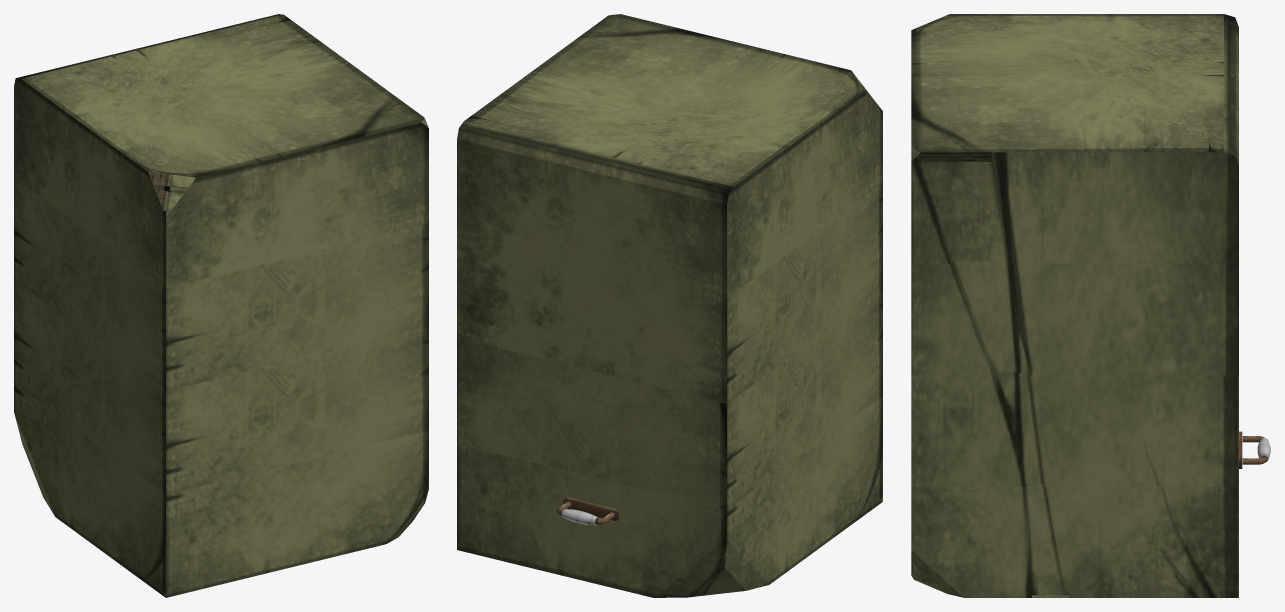
The model's file is highpolycuboid.FBX.
The picture shows the model from 3 angles, left to right: view 1: azimuth 30°, elevation 25°; view 2: azimuth 150°, elevation 25°; view 3: azimuth 270°, elevation 25°; orthographic projection. The views are drawn at different scales.
Visible parts, largest first — view 1: Object; view 2: Object; view 3: Object.
Boxes of the visible parts, box(x1,y1,x2,y2) form: Object: box(14, 14, 428, 597); Object: box(457, 14, 882, 597); Object: box(911, 14, 1270, 597).
Size of the model in its own units: 80 by 120 by 87.76.
